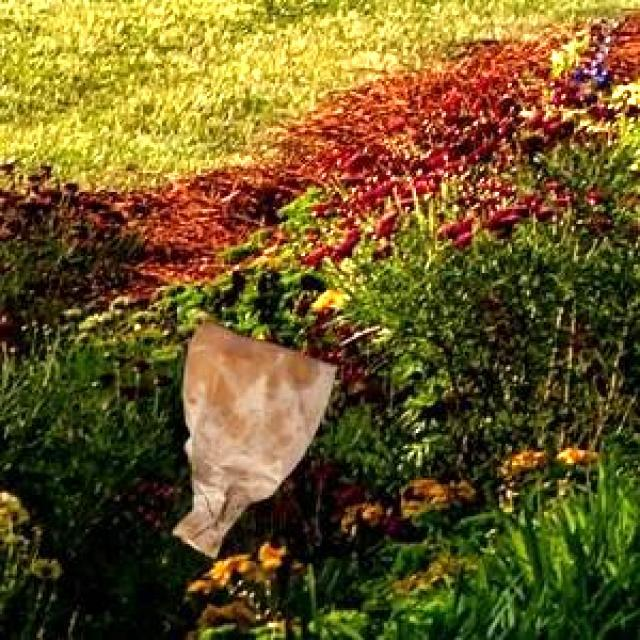Paper_Bag: (169, 314, 334, 554)
